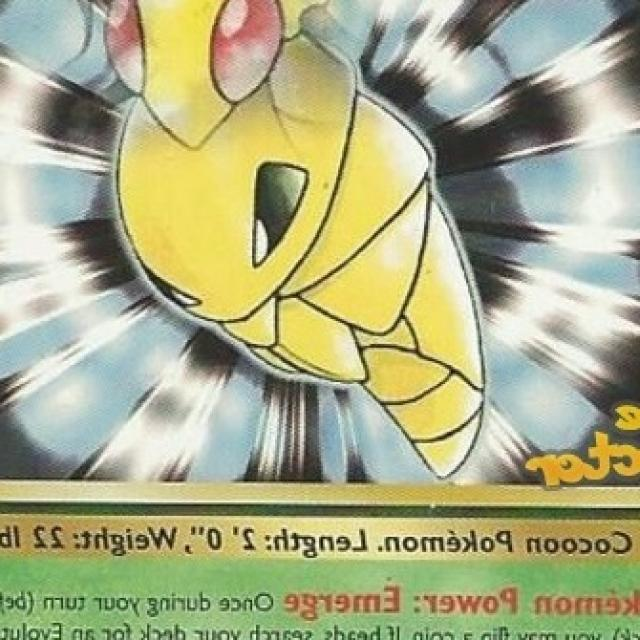Kakuna: (114, 71, 485, 478)
